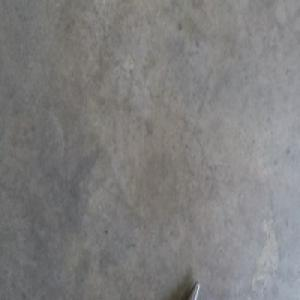Pliers: (182, 281, 202, 298)
